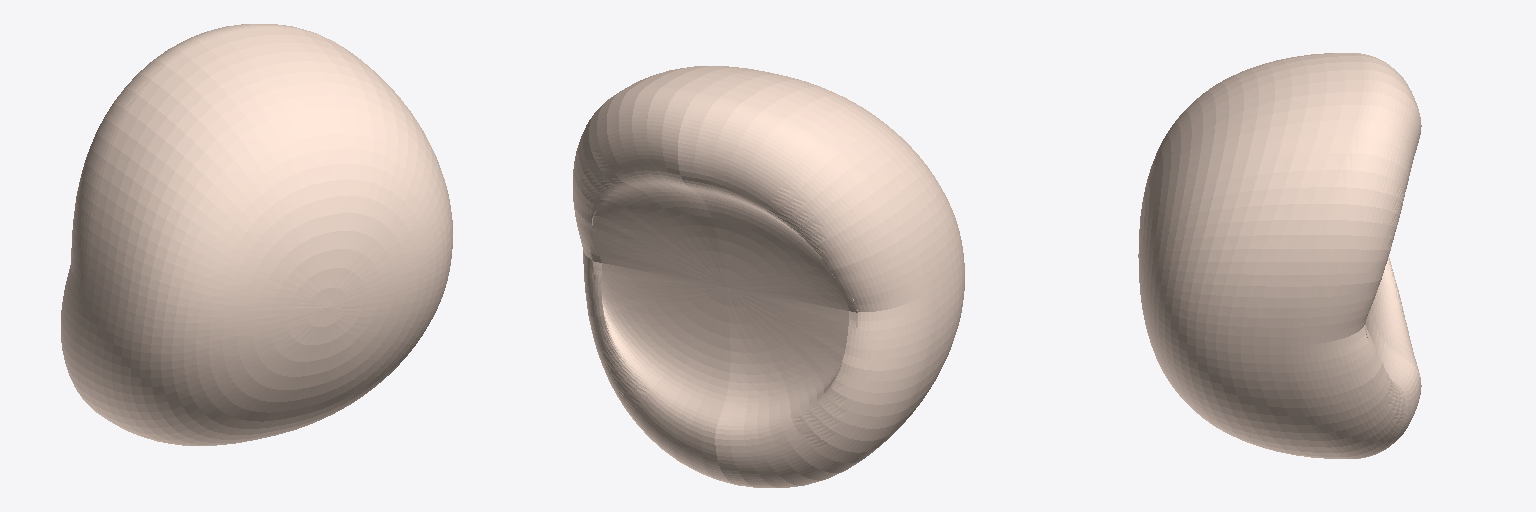
File: tinker.obj
The picture shows the model from 3 angles: view 1: azimuth 30°, elevation 25°; view 2: azimuth 150°, elevation 25°; view 3: azimuth 270°, elevation 25°; orthographic projection.
Parts seen in each view (by area): view 1: obj_0; view 2: obj_0; view 3: obj_0.
Part boxes in pixels (x1,y1,x2,y2): obj_0: (61, 24, 452, 445); obj_0: (573, 66, 964, 487); obj_0: (1138, 53, 1421, 458).
Size of the model in its own units: 12.58 by 13.28 by 9.02.